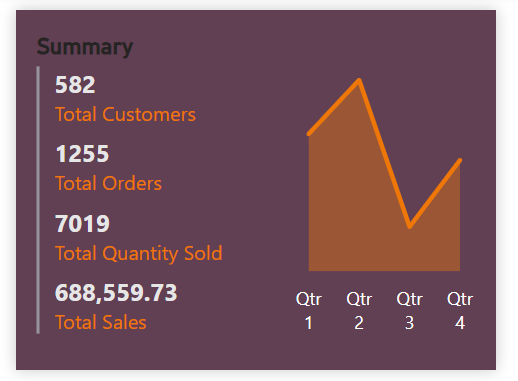

What the dashboard file says about the page in this screenshot:
{"tool":"powerbi","page":{"name":"Tooltip Page","canvas":[320,240],"ordinal":2},"visuals":[{"type":"multiRowCard","title":"Summary","fields":{"Values":["Count(Sales data 2024.customer_id)","Sales data 2024.order_id","Sum(Sales data 2024.quantity_sold)","Sum(Sales data 2024.sales)"]},"box":[8.9,15.3,135.8,209.5],"z":0},{"type":"areaChart","fields":{"Y":["Sum(Sales data 2024.sales)"],"Category":["Sales data 2024.date.Variation.Date Hierarchy.Quarter"]},"box":[166.3,15.3,150,208.9],"z":1000}]}

Visuals, with their boxes in screenshot pixels (x1, y1, x2, y2), scaled from the page's 320x240 canvas onto the 518x381 screenshot:
"Summary" multiRowCard: [14, 24, 234, 357]
areaChart - Sum(Sales data 2024.sales) x Sales data 2024.date.Variation.Date Hierarchy.Quarter: [269, 24, 512, 356]
